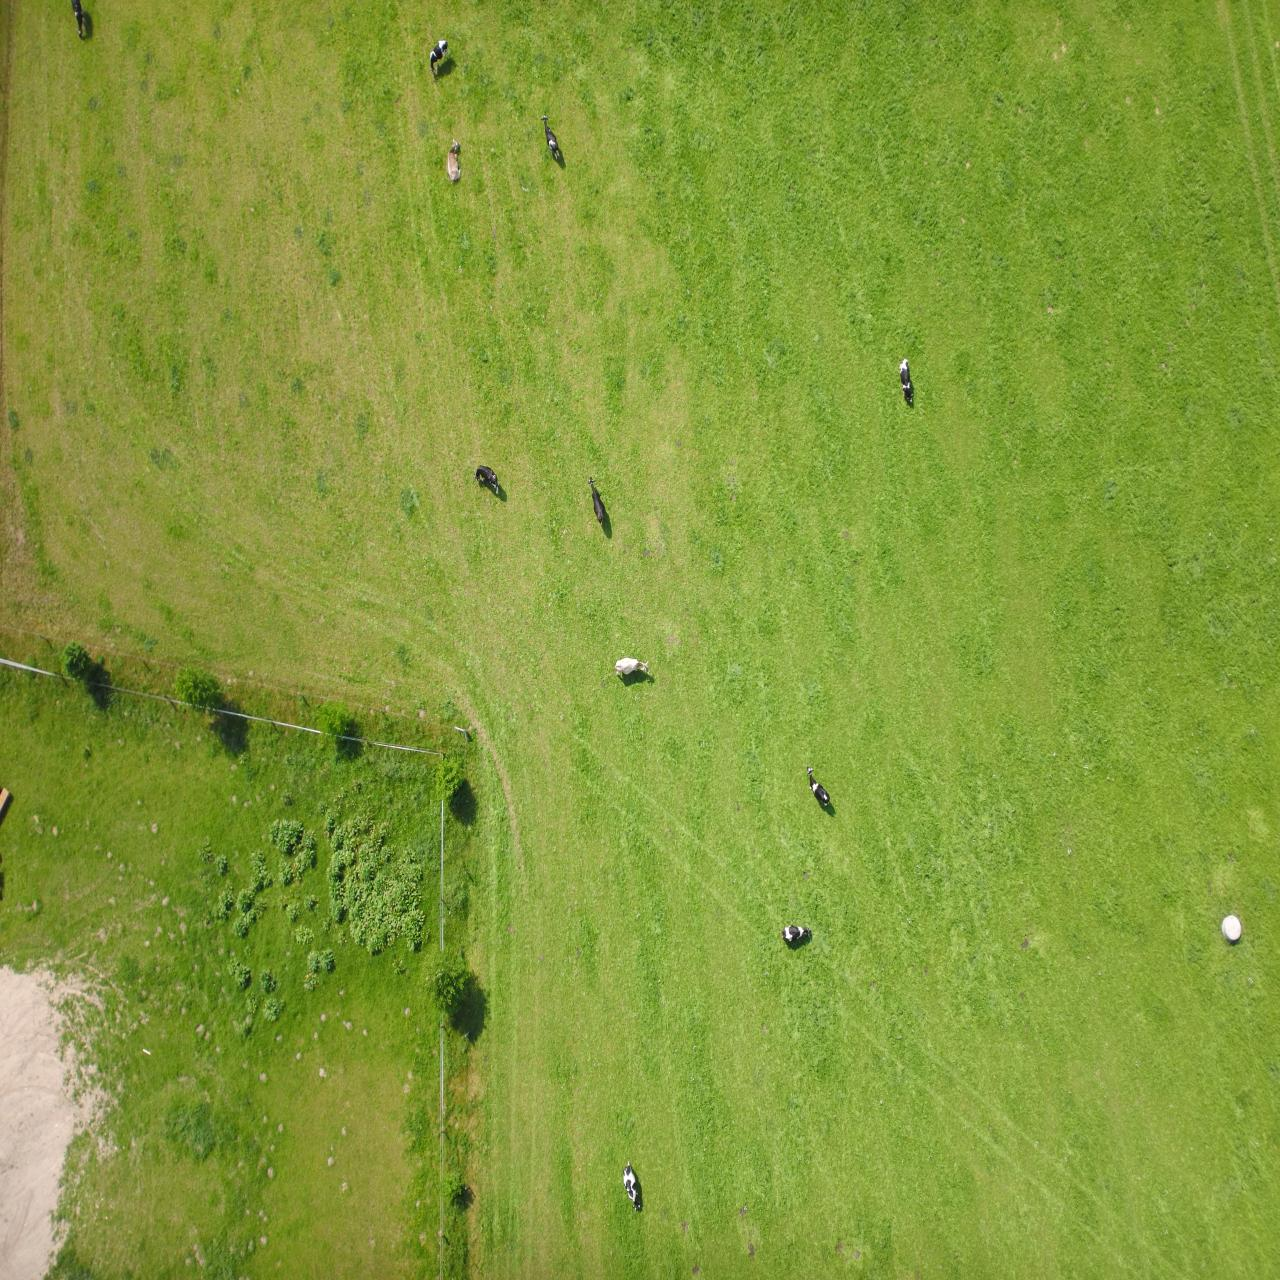cow: (450, 474, 474, 513), (778, 785, 806, 816), (720, 1121, 738, 1166), (640, 69, 656, 118), (675, 754, 692, 803), (818, 1096, 833, 1141), (366, 877, 380, 924), (831, 1205, 850, 1240), (631, 605, 665, 622), (468, 339, 499, 356)
